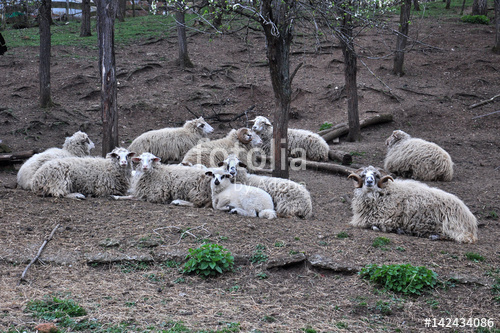sheep: (352, 173, 467, 250), (379, 130, 474, 187), (133, 114, 221, 171), (34, 146, 130, 196), (136, 151, 205, 216), (237, 119, 332, 162), (213, 172, 288, 225), (20, 131, 90, 180)
